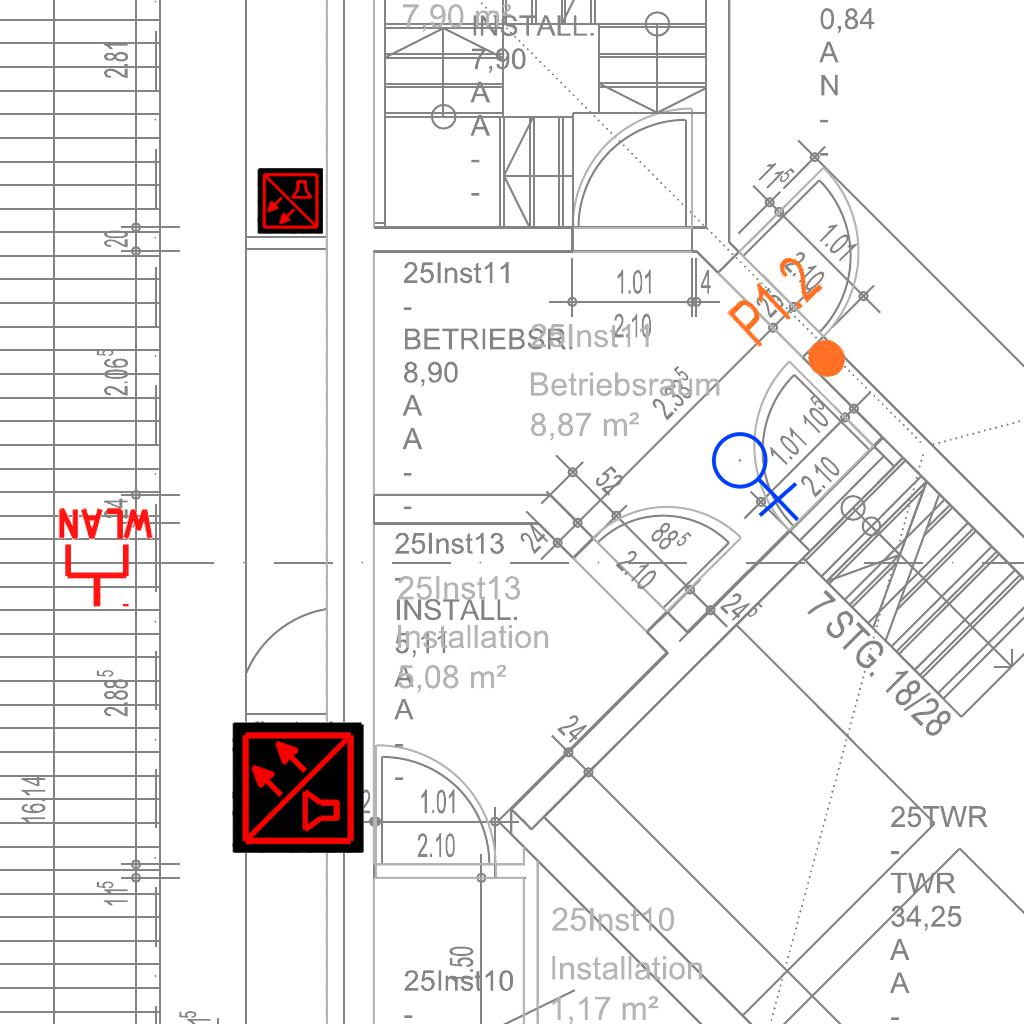Downlight_LED_Einbauleuchten_Flur: (721, 248, 878, 406)
Elektroanschluss_allgemein_230V_Geraeteanschlussdose_230V: (710, 423, 804, 522)
OKW_Multisensormelder_(Kombination_optischer_Rauch-Kahlenmonoxid_Waerme-Melder): (232, 721, 364, 853), (257, 168, 323, 234)
WLAN: (54, 506, 158, 611)
